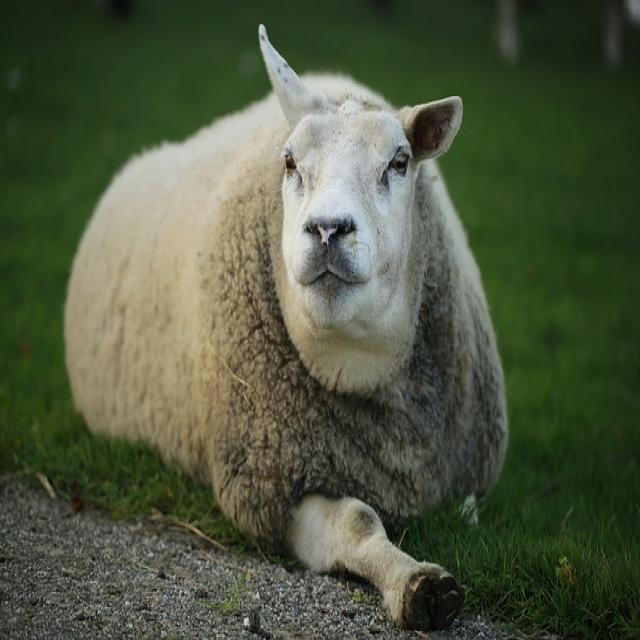sheep: (62, 21, 509, 633)
